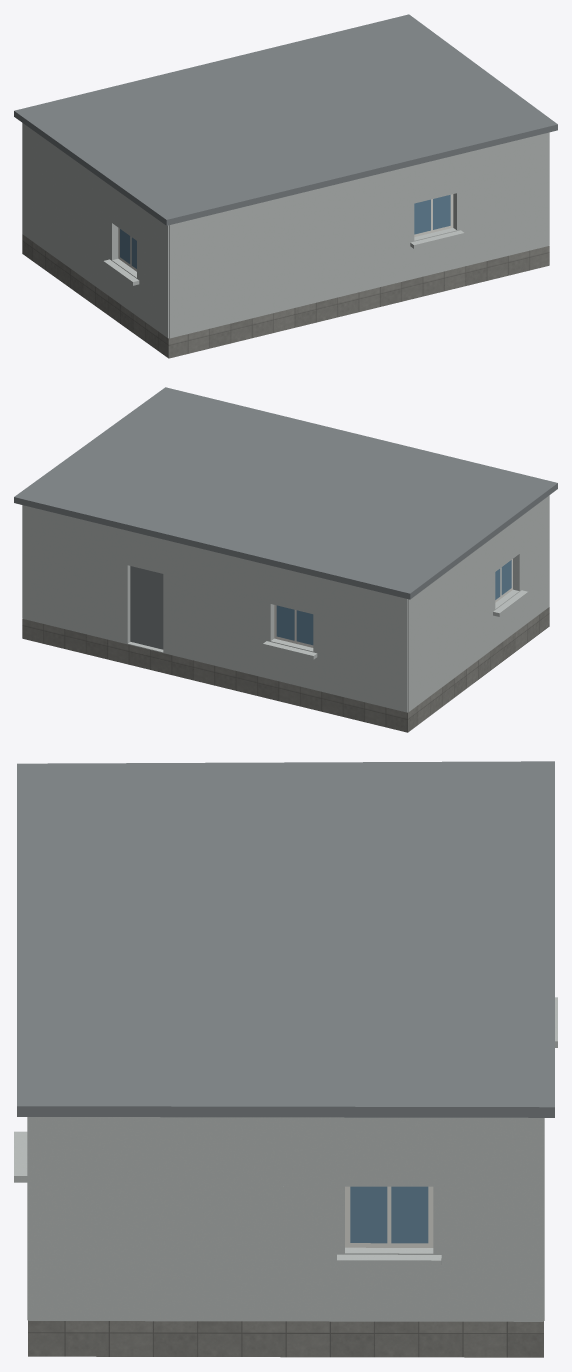
3 renders of one model, top to bottom at view 1: azimuth 30°, elevation 25°; view 2: azimuth 150°, elevation 25°; view 3: azimuth 270°, elevation 25°, orthographic. The views are drawn at different scales.
Visible parts, largest first — view 1: shed1__greyroof, shed1__wall, shed1__stone, shed1__sideglass, shed1__frame; view 2: shed1__greyroof, shed1__wall, shed1__stone, shed1__sideglass, shed1__frame; view 3: shed1__greyroof, shed1__wall, shed1__stone, shed1__sideglass, shed1__frame.
Part boxes in pixels (x1,y1,x2,y2): shed1__greyroof: (14,14,557,225); shed1__wall: (22,123,549,338); shed1__stone: (22,234,549,358); shed1__sideglass: (120,195,450,268); shed1__frame: (118,194,453,271); shed1__greyroof: (14,387,557,649); shed1__wall: (22,495,549,712); shed1__stone: (22,607,549,732); shed1__sideglass: (276,560,511,645); shed1__frame: (274,559,512,647); shed1__greyroof: (17,761,554,1117); shed1__wall: (14,997,557,1321); shed1__stone: (28,1320,543,1357); shed1__sideglass: (350,1186,428,1243); shed1__frame: (345,1186,433,1247).
Size of the model in its own units: 11.14 by 3.82 by 7.38.
5 materials, 2 textured.
